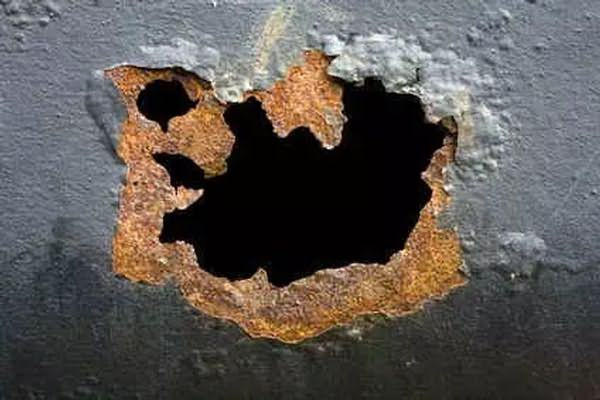Corrosion: (103, 47, 472, 345)
Spalling: (150, 75, 451, 289), (136, 76, 201, 135)
